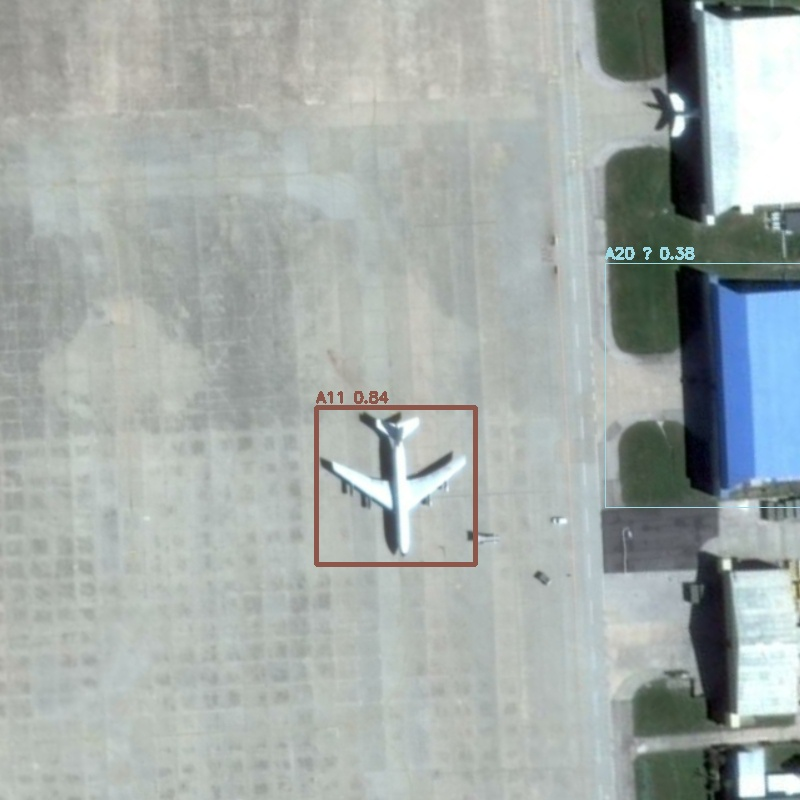A11: (316, 407, 475, 564)
A20: (605, 263, 800, 507)
